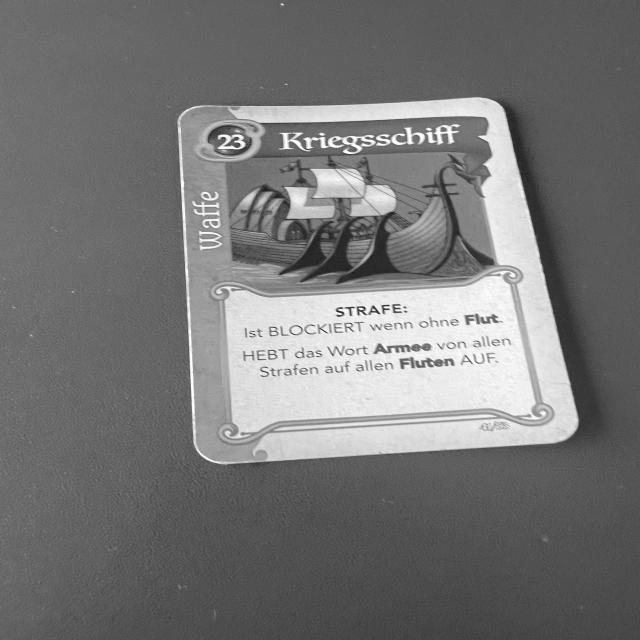Warship: (169, 95, 586, 467)
